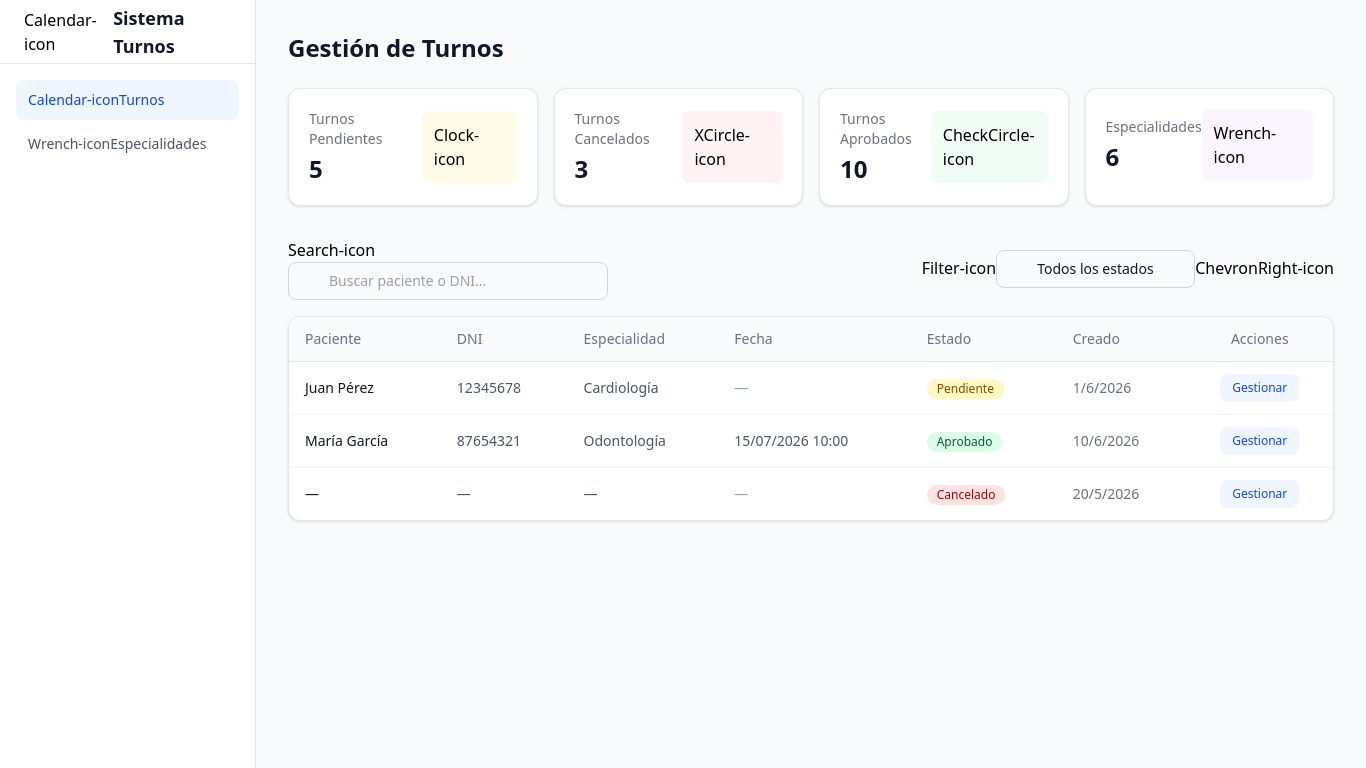
Test case: AdminDashboard - ShiftsManagement › filters shifts by DNI
Expected: the text "12345678" is shown, [441,362,568,414]
In the field with placeholder "Buscar paciente o DNI...": (448, 281) [288,262,608,300], type "8765"
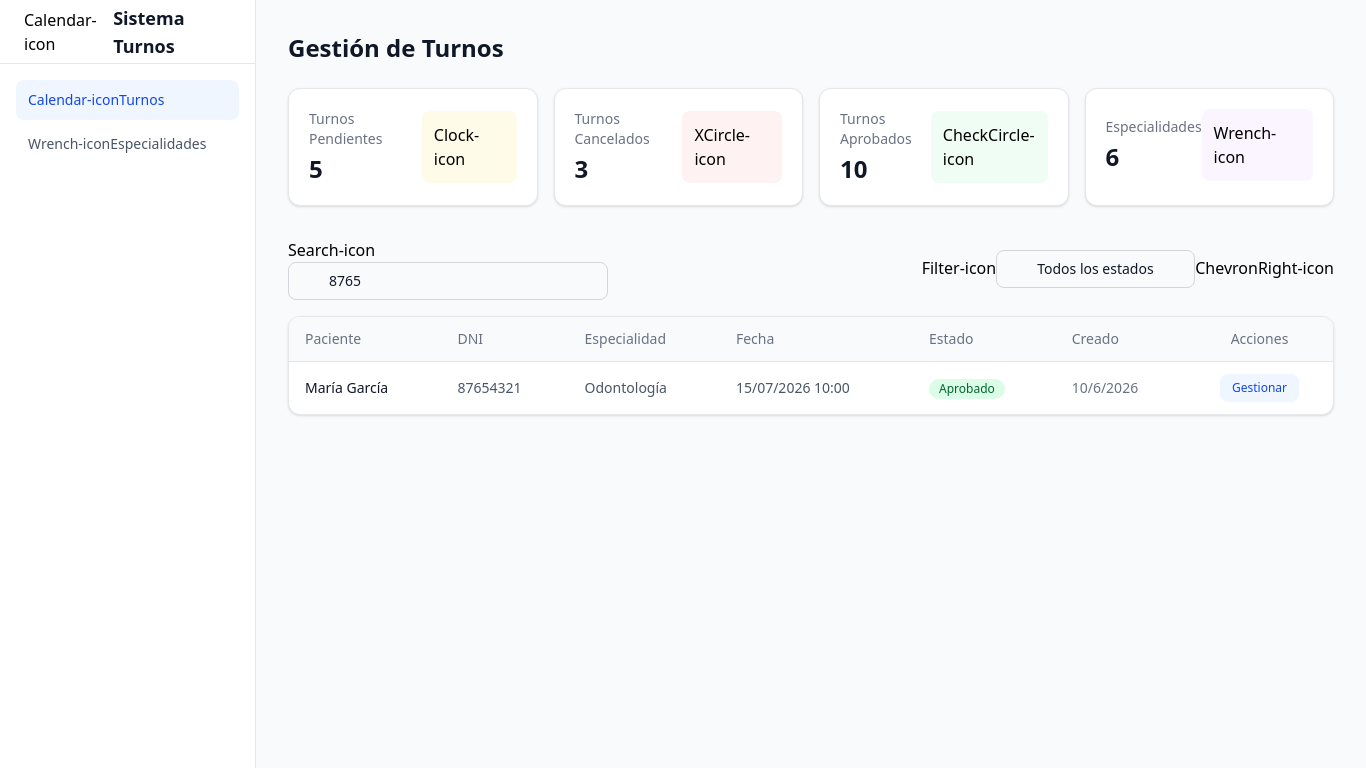
Expected: the text "87654321" is shown, [441,362,568,414]
Result: the text "12345678" is gone
